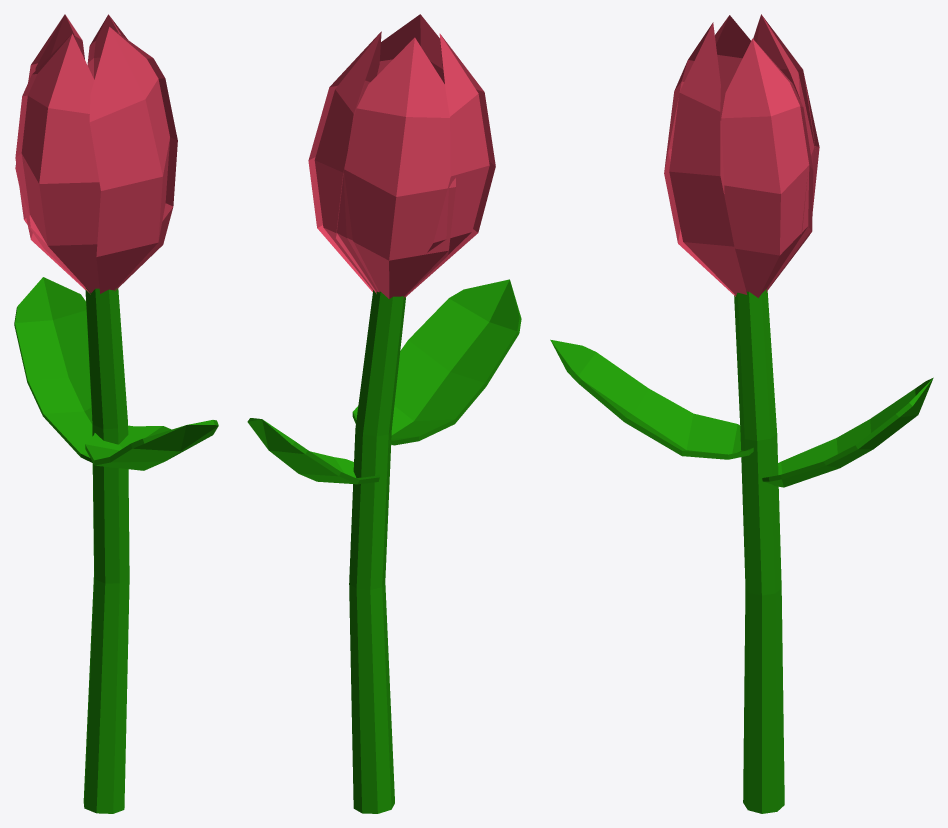
File: flower-8.glb
The picture shows the model from 3 angles, left to right: view 1: azimuth 30°, elevation 25°; view 2: azimuth 150°, elevation 25°; view 3: azimuth 270°, elevation 25°; orthographic projection. The views are drawn at different scales.
Parts seen in each view (by area): view 1: Flower 8; view 2: Flower 8; view 3: Flower 8.
Part boxes in pixels (x1,y1,x2,y2): Flower 8: [14, 14, 218, 813]; Flower 8: [247, 14, 521, 813]; Flower 8: [550, 14, 933, 813].
Bounding box in the file's own units: 0.3947 × 1.96 × 0.8803.
